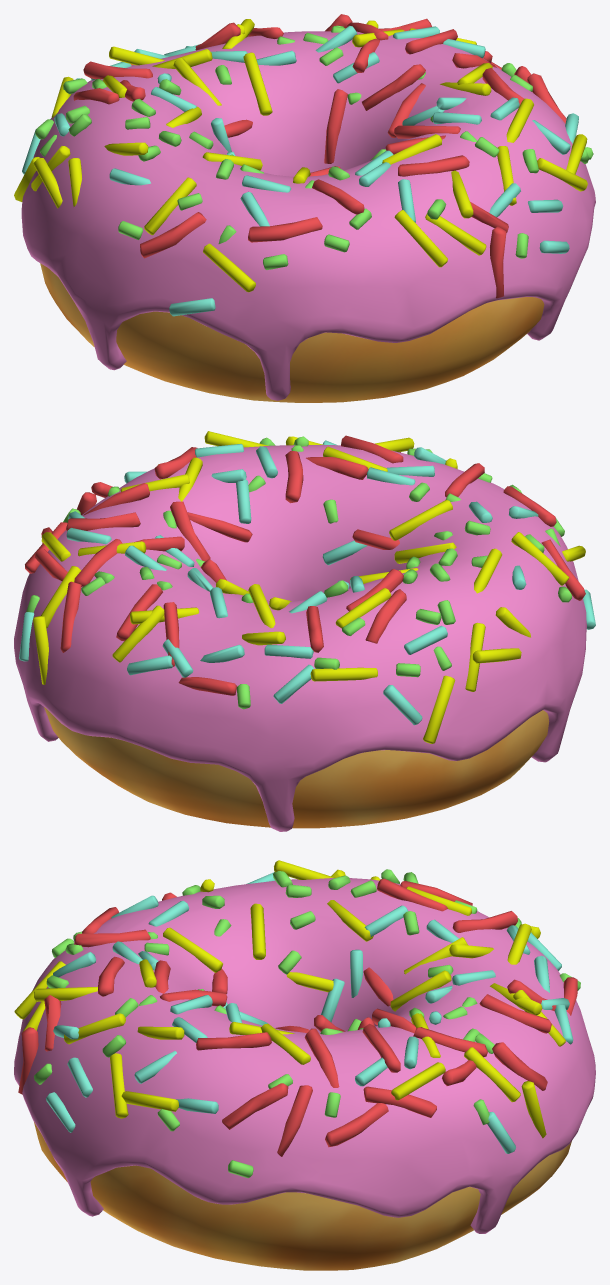
File: Donut.fbx
3 renders of one model, top to bottom at view 1: azimuth 30°, elevation 25°; view 2: azimuth 150°, elevation 25°; view 3: azimuth 270°, elevation 25°, orthographic.
Visible parts, largest first — view 1: Donut1; view 2: Donut1; view 3: Donut1.
Boxes of the visible parts, x1,y1,x2,y2 form: Donut1: [14, 14, 595, 402]; Donut1: [14, 431, 595, 831]; Donut1: [14, 860, 595, 1270].
Size of the model in its own units: 12.29 by 5.71 by 12.34.
